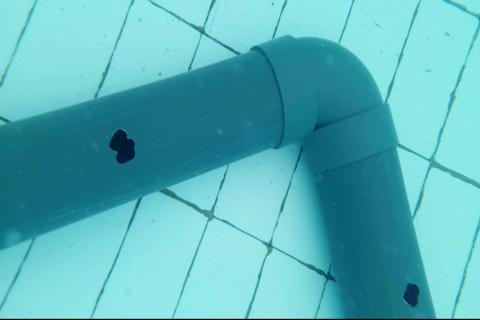kebocoran: (108, 127, 136, 165), (403, 280, 419, 308)
